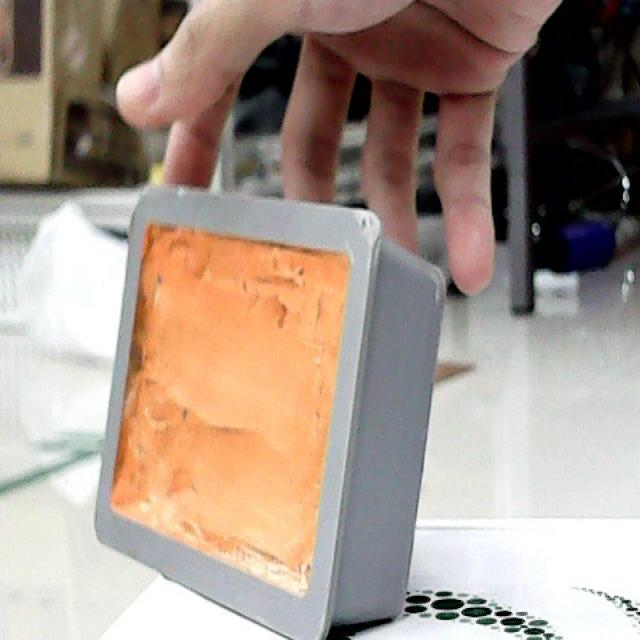block: (99, 186, 443, 640)
